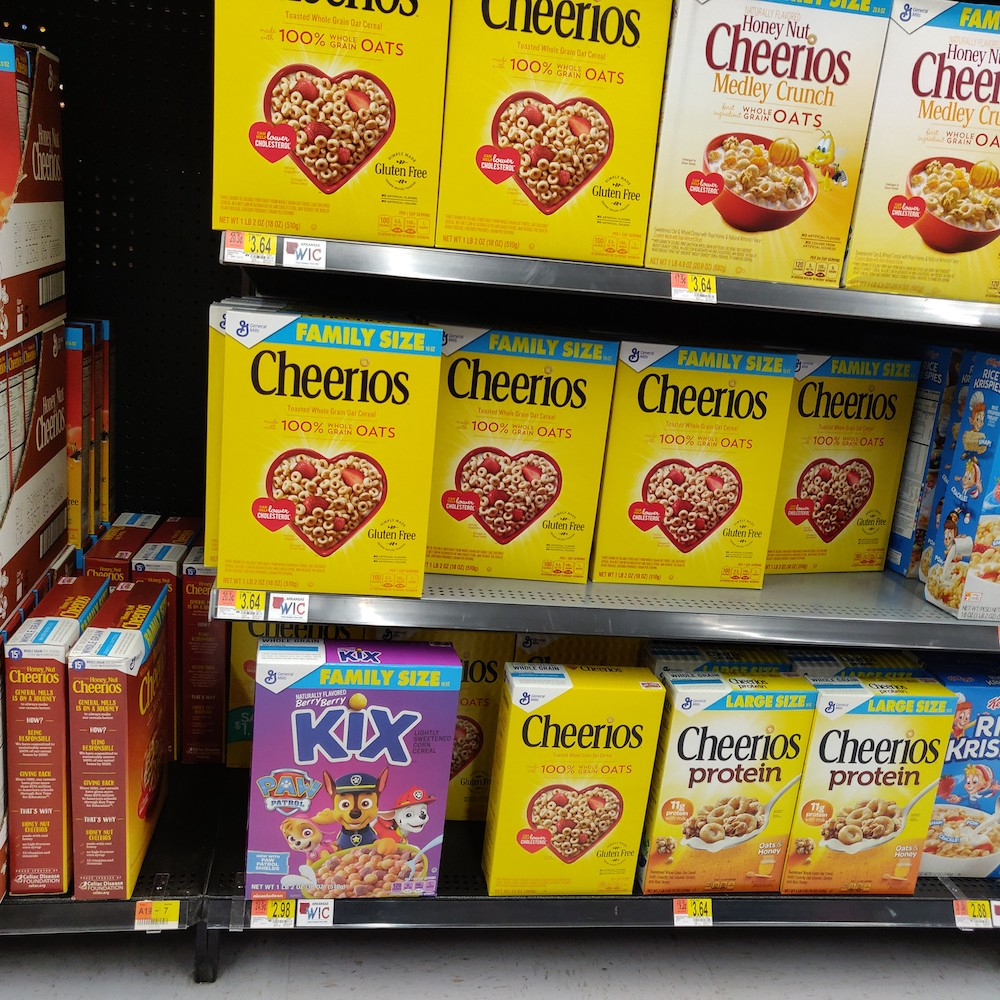Kix Berry -568919964: (242, 668, 455, 890)
